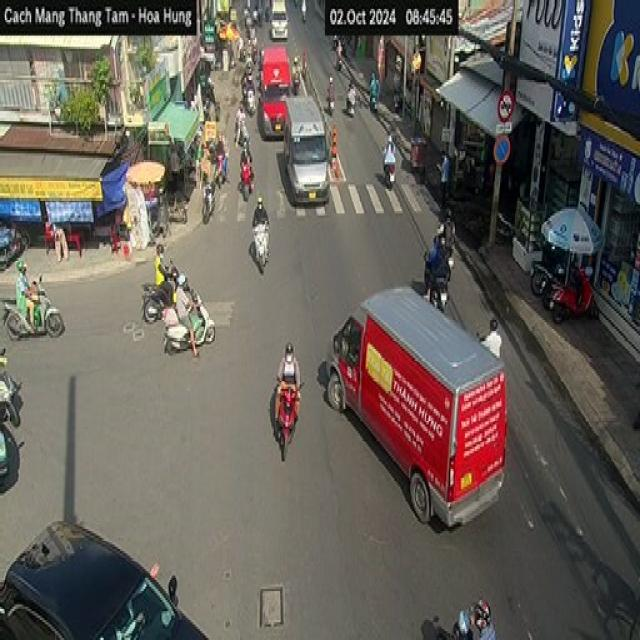car: (3, 513, 215, 640), (284, 100, 330, 208)
motorcycle: (5, 288, 67, 340), (160, 308, 222, 351), (553, 278, 602, 328), (273, 377, 295, 460), (529, 256, 571, 294), (138, 278, 178, 316), (0, 361, 24, 424), (424, 252, 448, 311), (250, 220, 273, 276), (542, 278, 580, 305), (199, 186, 219, 217), (384, 154, 401, 190), (214, 157, 229, 195), (454, 610, 473, 640), (238, 162, 252, 200), (239, 121, 251, 143), (244, 88, 255, 112)
person: (174, 266, 199, 357), (478, 316, 504, 364), (157, 240, 176, 305), (16, 253, 34, 321), (471, 596, 497, 640), (52, 220, 72, 266), (439, 148, 451, 207), (283, 336, 294, 382), (254, 190, 266, 231), (437, 238, 448, 279), (442, 207, 452, 252), (240, 136, 252, 172), (386, 134, 396, 170), (325, 74, 336, 106), (234, 101, 244, 135), (431, 234, 438, 276), (217, 128, 224, 168), (372, 71, 376, 95)
truck: (325, 274, 507, 536), (261, 46, 288, 133), (270, 0, 290, 45)
